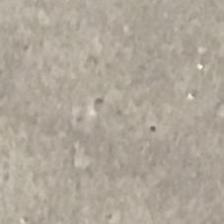Non_Crack: (36, 31, 206, 176)
